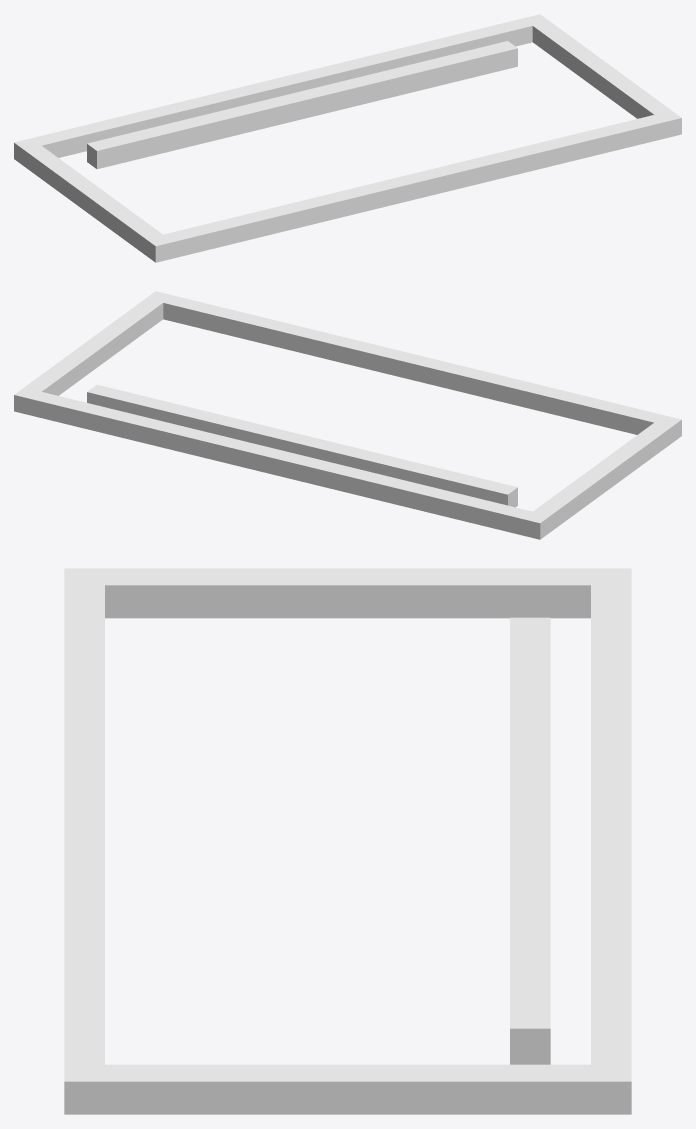
File: furnitureSelector2x1.gltf
The picture shows the model from 3 angles, top to bottom: view 1: azimuth 30°, elevation 25°; view 2: azimuth 150°, elevation 25°; view 3: azimuth 270°, elevation 25°; orthographic projection. The views are drawn at different scales.
Visible parts, largest first — view 1: cube; view 2: cube; view 3: cube.
Part boxes in pixels (box(x1,y1,x2,y2)): cube: box(14, 14, 681, 262); cube: box(14, 291, 681, 539); cube: box(64, 568, 631, 1114).
Bounding box in the file's own units: 1.88 × 0.0625 × 0.875.
Materials: 1 (1 with a texture image).
